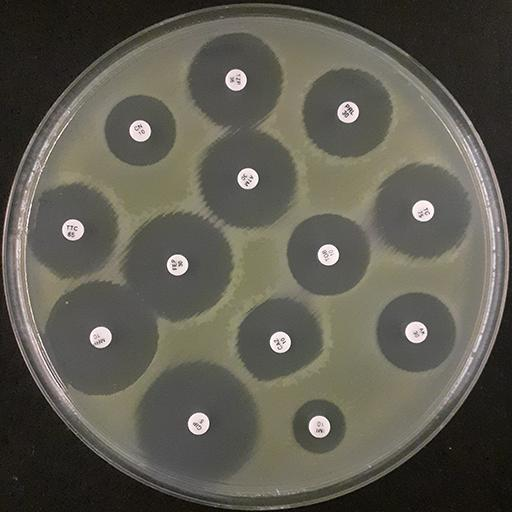disc: (129, 120, 151, 142), (412, 200, 434, 222), (317, 244, 339, 266), (90, 327, 112, 349), (405, 322, 427, 344), (337, 102, 359, 123), (62, 220, 84, 241), (270, 331, 291, 353), (309, 416, 330, 438), (188, 413, 209, 435), (226, 68, 246, 91), (237, 168, 258, 189), (167, 255, 188, 276)
